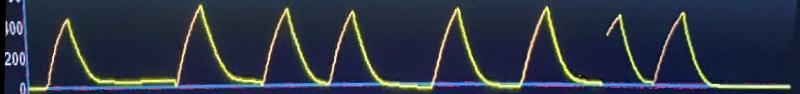normal_volume: (35, 0, 612, 94), (644, 6, 787, 91)
